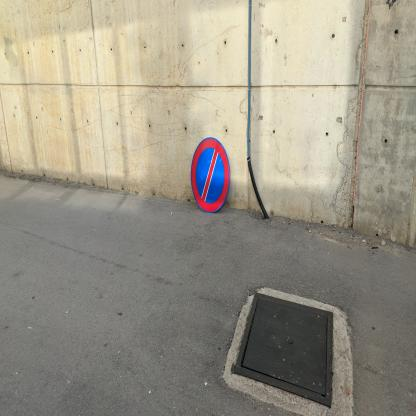No Waiting: (192, 139, 232, 214)
